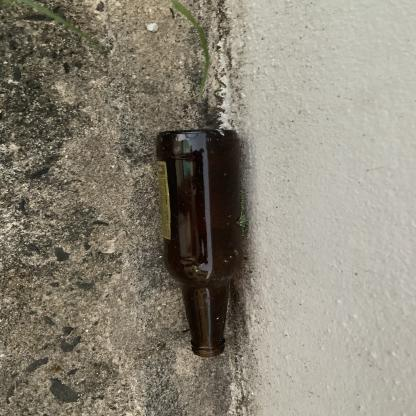trash: (149, 122, 254, 364)
